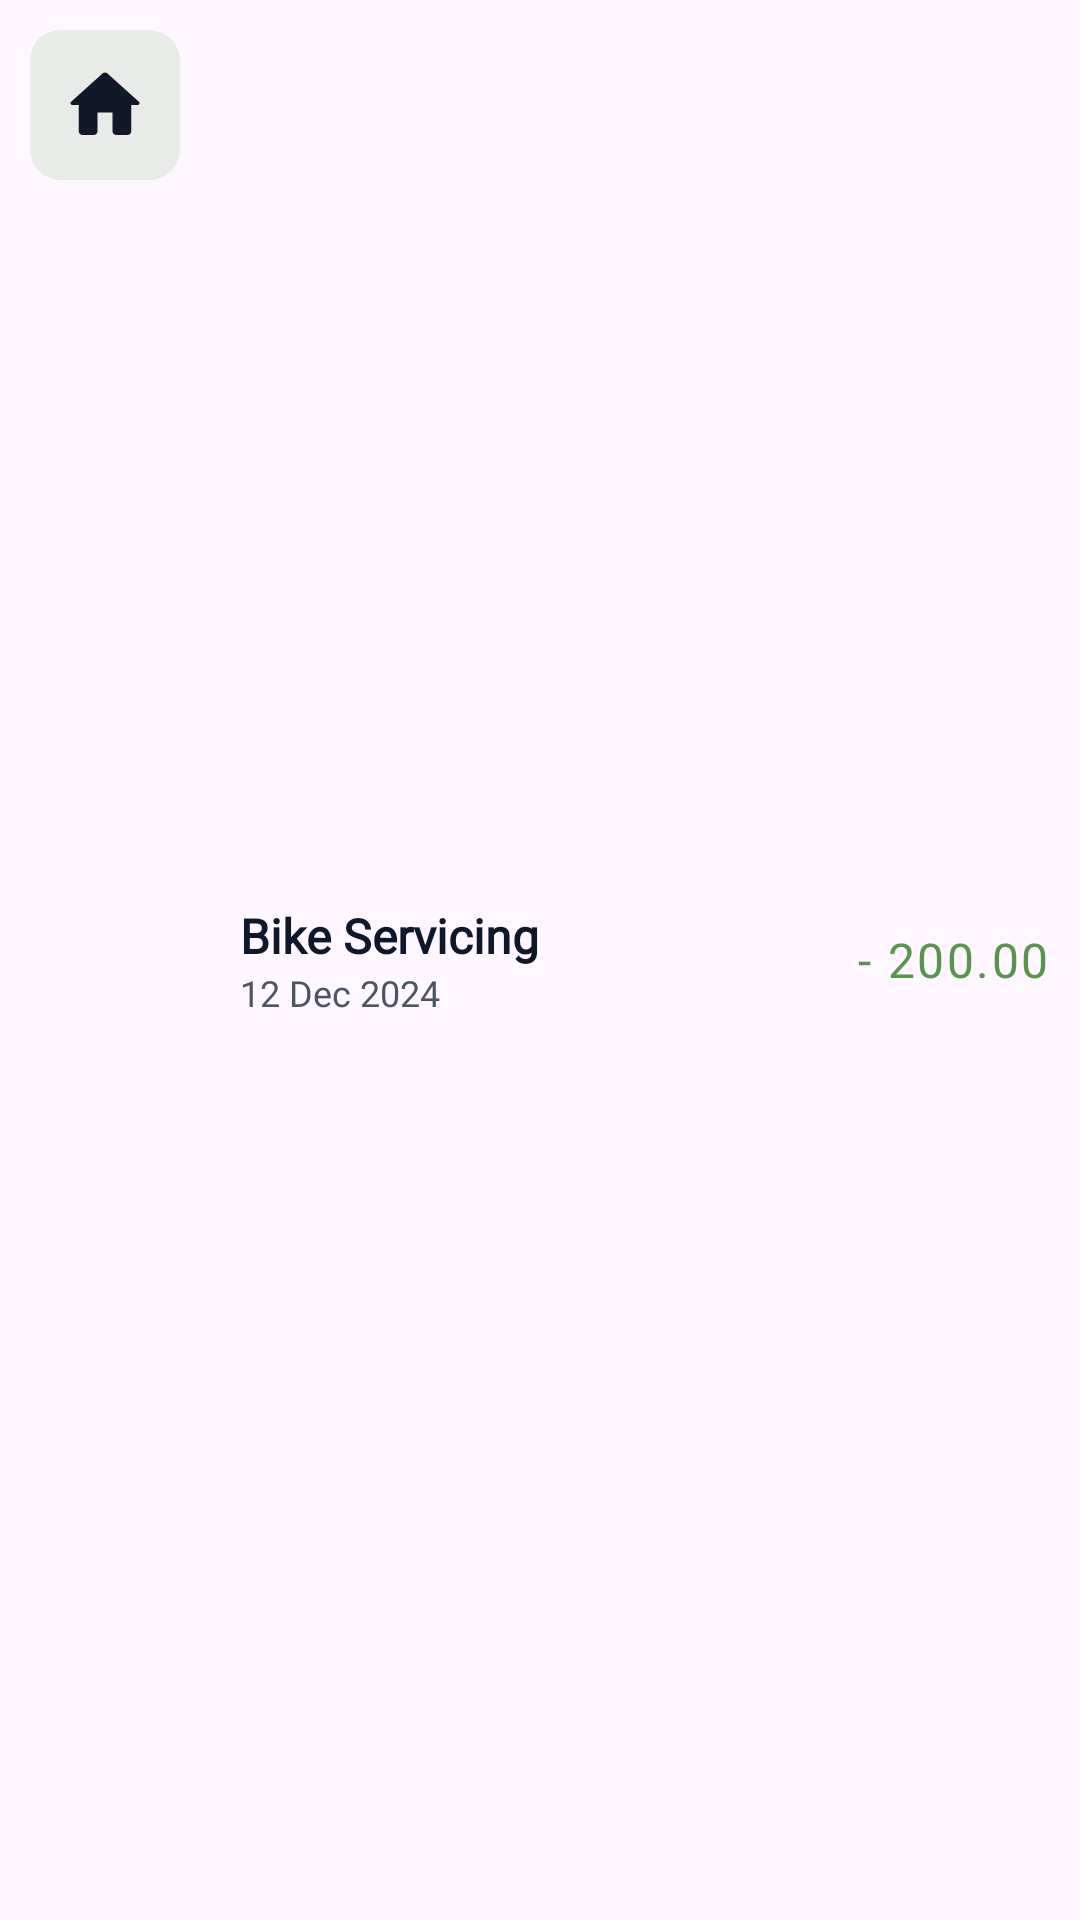

Screen size 1080 x 1920. Icon name, then its center in pixels as (x,y):
home: (105,103)
